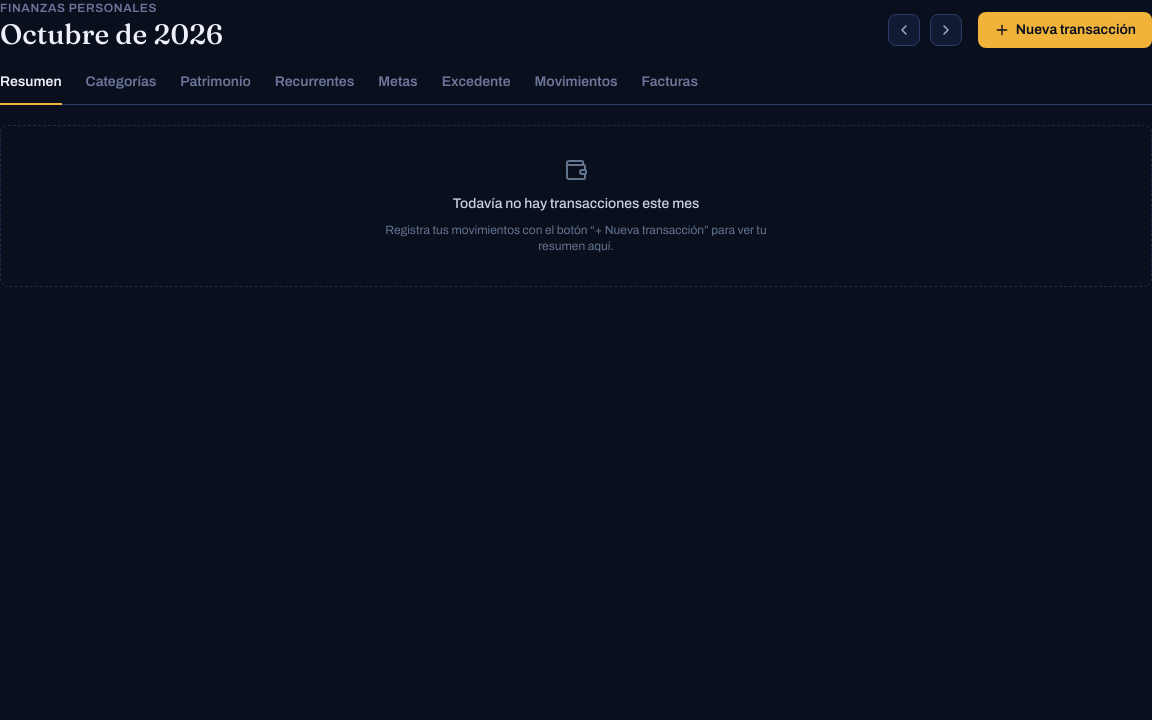
FinanceDashboard › shows honest empty states on the category and surplus tabs for a brand-new user
The width and height of the screenshot is (1152, 720).
Expected: the text "Todavía no hay transacciones este mes" is shown, [453,194,699,214]
Click the tab "Categorías".
click(121, 86)  # box [86,68,156,104]
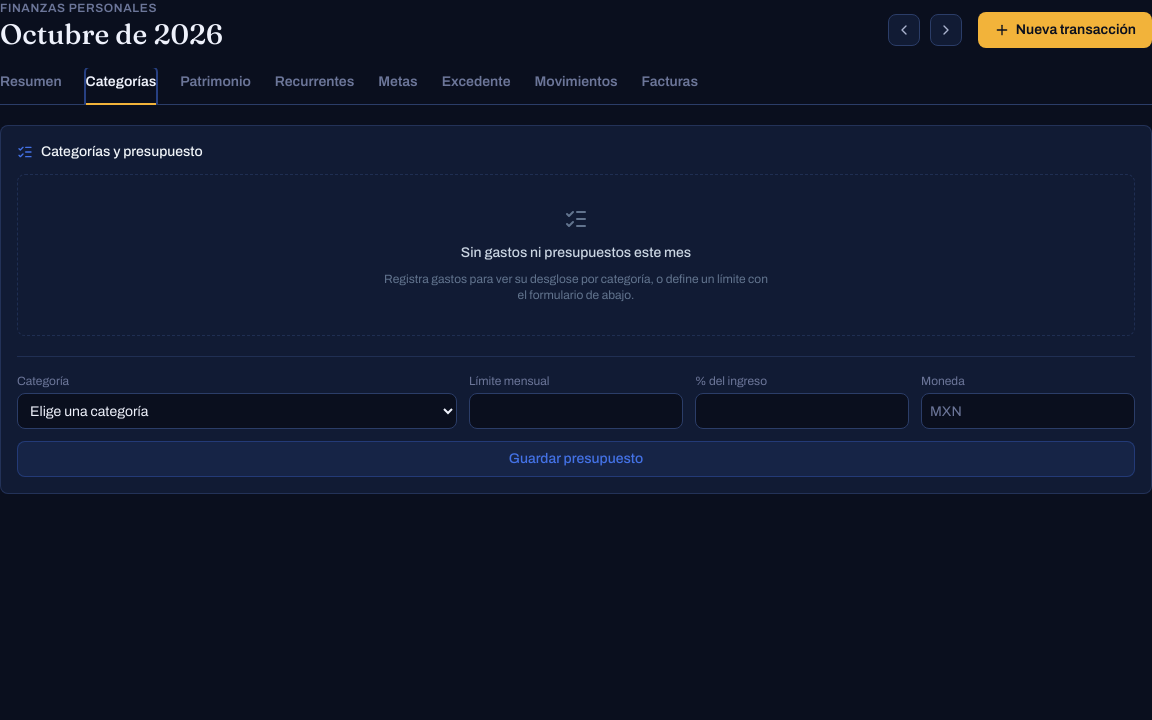
Expected: the text "Sin gastos ni presupuestos este mes" is shown, [461,243,691,263]
Click the tab "Excedente".
click(476, 86)  # box [442,68,510,104]
(page scrolled)
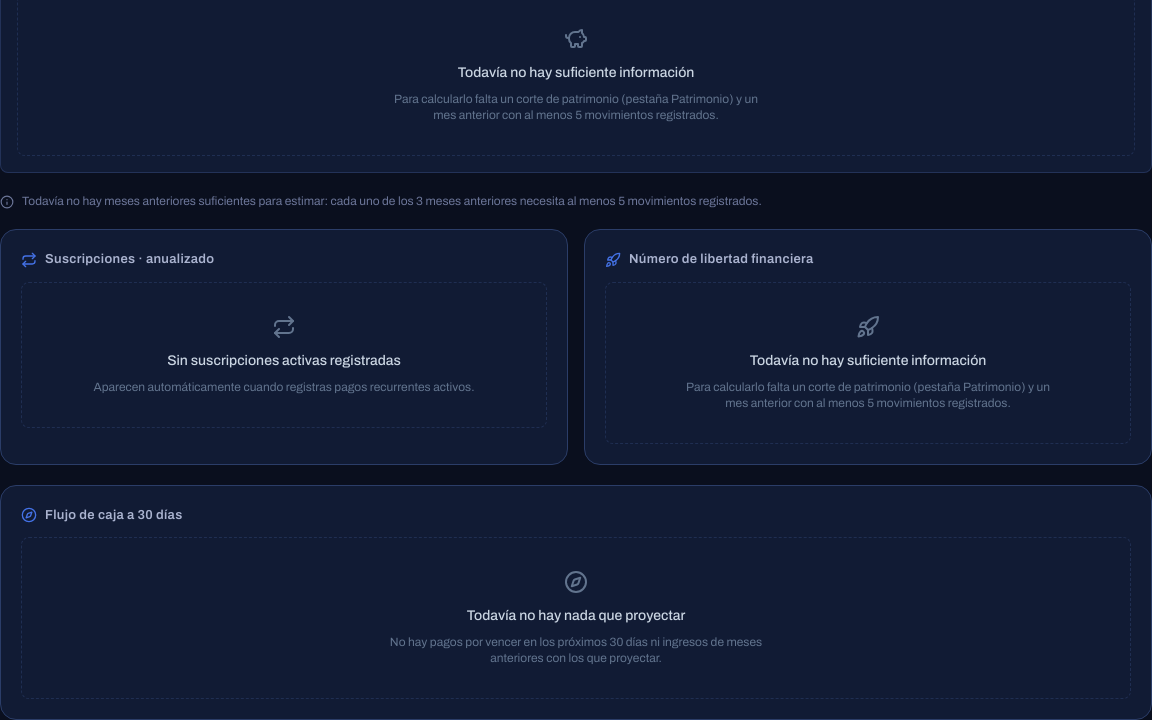
Expected: the text "Para calcularlo falta un corte de patrimonio" is shown 2 times, [384,91,768,123]; [676,378,1060,410]
Expected: the text "Todavía no hay meses anteriores suficientes para estimar" is shown, [22,194,762,208]
Expected: the text "Todavía no hay nada que proyectar" is shown, [467,606,685,626]
